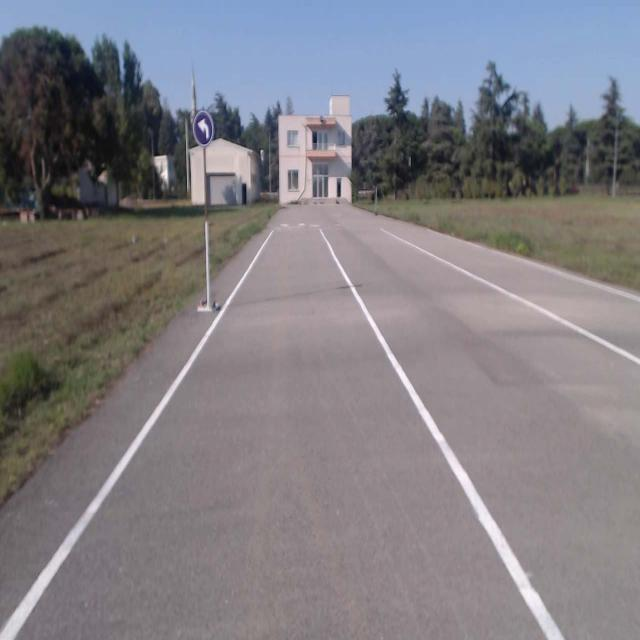sol: (194, 112, 213, 143)
